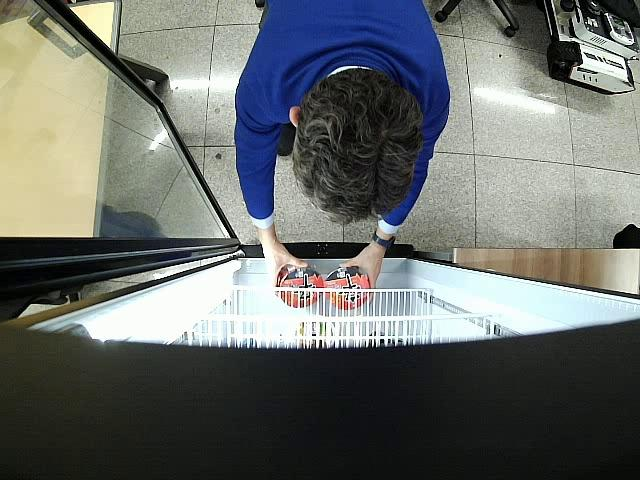00_hand: (262, 236, 309, 296), (340, 246, 380, 304)
01_shinRamen_L: (277, 264, 323, 309), (323, 266, 370, 310)
